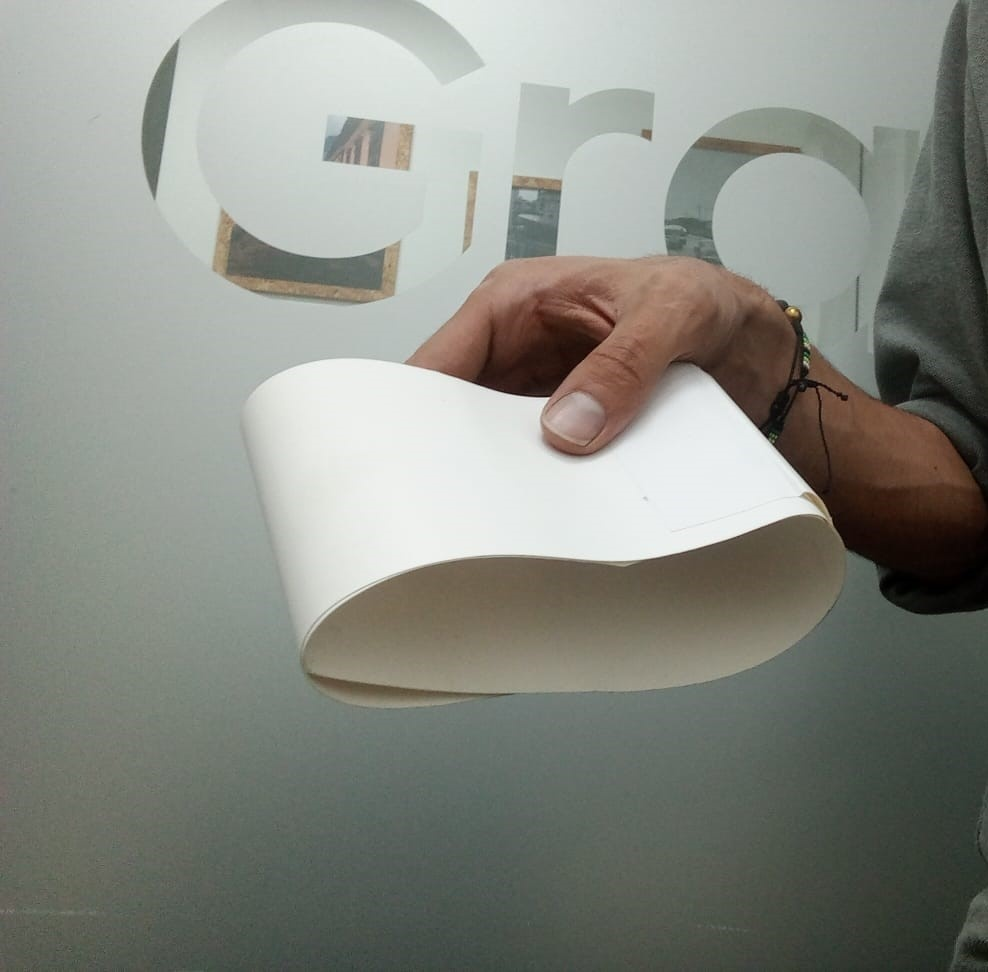Carton: (244, 361, 849, 712)
